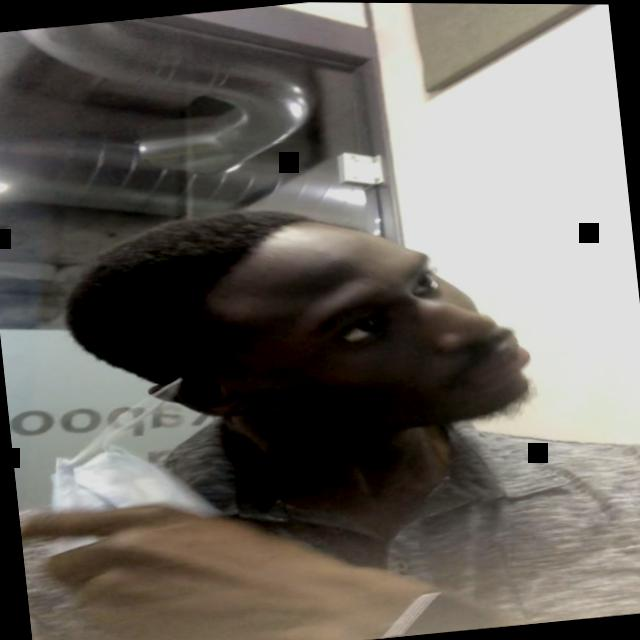NO-Mask: (182, 218, 536, 449)
